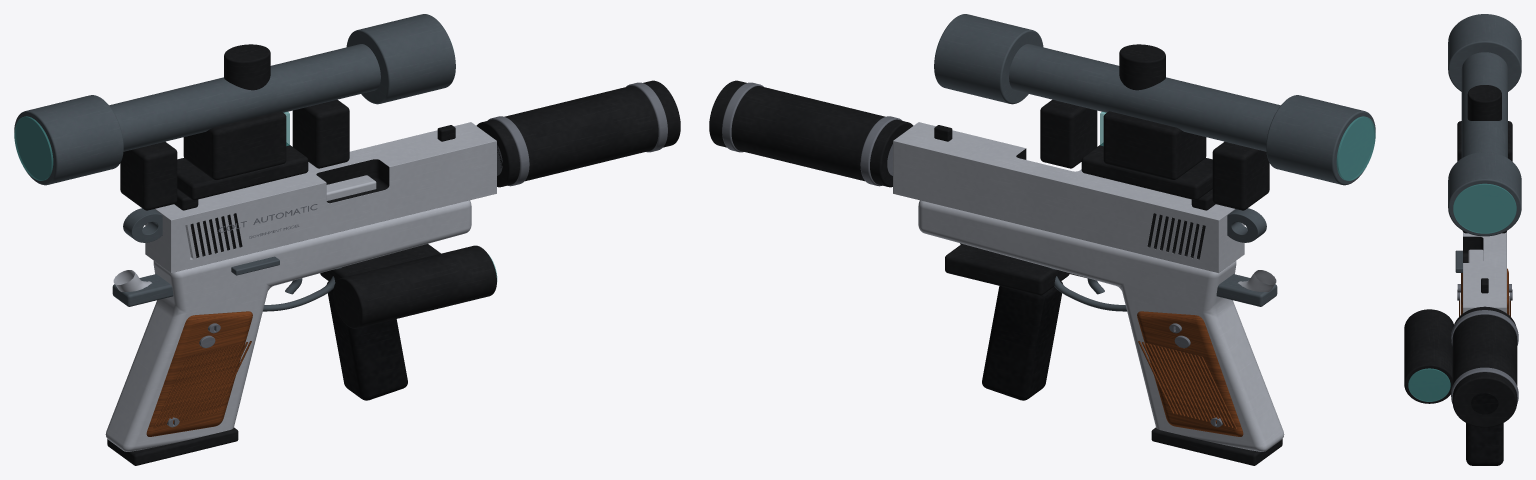
The picture shows the model from 3 angles, left to right: view 1: azimuth 30°, elevation 25°; view 2: azimuth 150°, elevation 25°; view 3: azimuth 270°, elevation 25°; orthographic projection. The views are drawn at different scales.
Parts seen in each view (by area): view 1: Slide.001, Pistol frame.001, optic_scope_tube.006, muzzle_suppressor.004, under_light_body.003, optic_scope_bell.012, optic_scope_bell.013, Grip panels.001, optic_red_body.006, under_grip_body.003, optic_scope_mount.012, optic_scope_mount.013 (+10 smaller); view 2: Slide.001, Pistol frame.001, optic_scope_tube.006, muzzle_suppressor.004, optic_scope_bell.012, under_grip_body.003, optic_scope_bell.013, Grip panels.001, optic_red_body.006, under_grip_mount.003, optic_scope_mount.012, optic_scope_mount.013 (+8 smaller); view 3: muzzle_suppressor.004, optic_scope_bell.013, under_light_body.003, optic_scope_bell.012, optic_scope_tube.006, Slide.001, optic_scope_glass.013, under_grip_body.003, optic_scope_turret.006, under_light_lens.003, muzzle_suppressor_bore.004, muzzle_suppressor_band.009 (+5 smaller).
Part boxes in pixels (x1,y1,x2,y2): Slide.001: [145, 122, 496, 272]; Pistol frame.001: [105, 200, 471, 451]; optic_scope_tube.006: [109, 44, 380, 151]; muzzle_suppressor.004: [476, 80, 680, 187]; under_light_body.003: [333, 245, 496, 328]; optic_scope_bell.012: [14, 95, 123, 185]; optic_scope_bell.013: [346, 14, 455, 104]; Grip panels.001: [146, 311, 252, 436]; optic_red_body.006: [183, 111, 286, 179]; under_grip_body.003: [327, 281, 407, 400]; optic_scope_mount.012: [120, 141, 177, 210]; optic_scope_mount.013: [292, 99, 349, 168]; Slide.001: [893, 122, 1244, 272]; Pistol frame.001: [918, 200, 1284, 451]; optic_scope_tube.006: [1009, 44, 1280, 151]; muzzle_suppressor.004: [709, 80, 913, 187]; optic_scope_bell.012: [1266, 95, 1375, 185]; under_grip_body.003: [982, 281, 1062, 400]; optic_scope_bell.013: [934, 14, 1043, 104]; Grip panels.001: [1137, 311, 1243, 436]; optic_red_body.006: [1103, 111, 1206, 179]; under_grip_mount.003: [945, 244, 1069, 295]; optic_scope_mount.012: [1212, 141, 1269, 210]; optic_scope_mount.013: [1040, 99, 1097, 168]; muzzle_suppressor.004: [1452, 306, 1517, 427]; optic_scope_bell.013: [1448, 152, 1521, 236]; under_light_body.003: [1404, 309, 1453, 403]; optic_scope_bell.012: [1448, 14, 1521, 91]; optic_scope_tube.006: [1461, 52, 1507, 157]; Slide.001: [1463, 232, 1506, 313]; optic_scope_glass.013: [1453, 183, 1516, 233]; under_grip_body.003: [1466, 423, 1503, 465]; optic_scope_turret.006: [1467, 85, 1501, 120]; under_light_lens.003: [1408, 368, 1450, 401]; muzzle_suppressor_bore.004: [1471, 392, 1498, 414]; muzzle_suppressor_band.009: [1451, 367, 1518, 403].
Size of the model in its own units: 1.23 by 0.6957 by 0.233.
7 materials, 6 textured.
